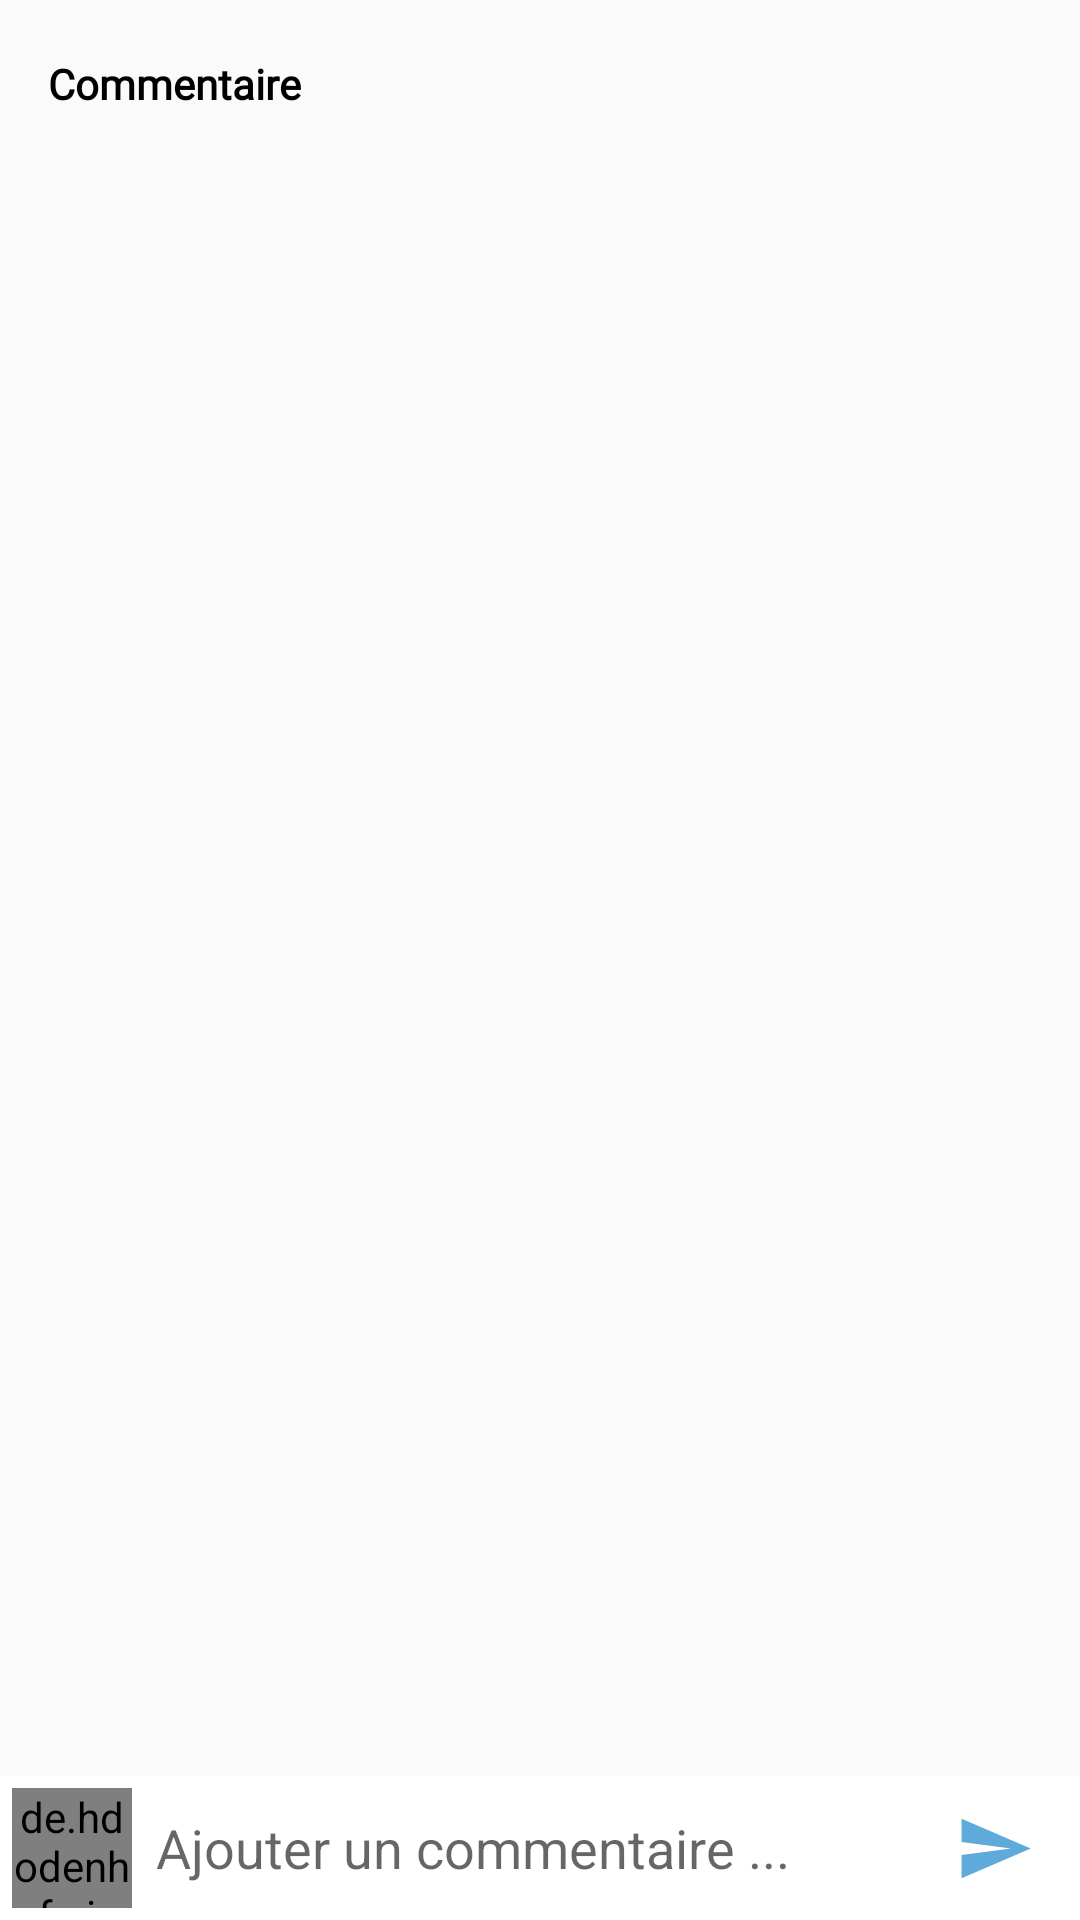

Icon bounding boxes for this 1080×1920 phone screenshot, format {"x1": x1, "y1": y1, "x2": x2, "y2": y2}:
send: {"x1": 961, "y1": 1819, "x2": 1031, "y2": 1878}
